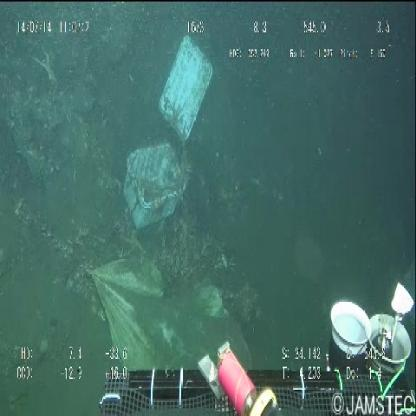Rov: (89, 277, 416, 416)
Rác: (116, 31, 225, 246)
